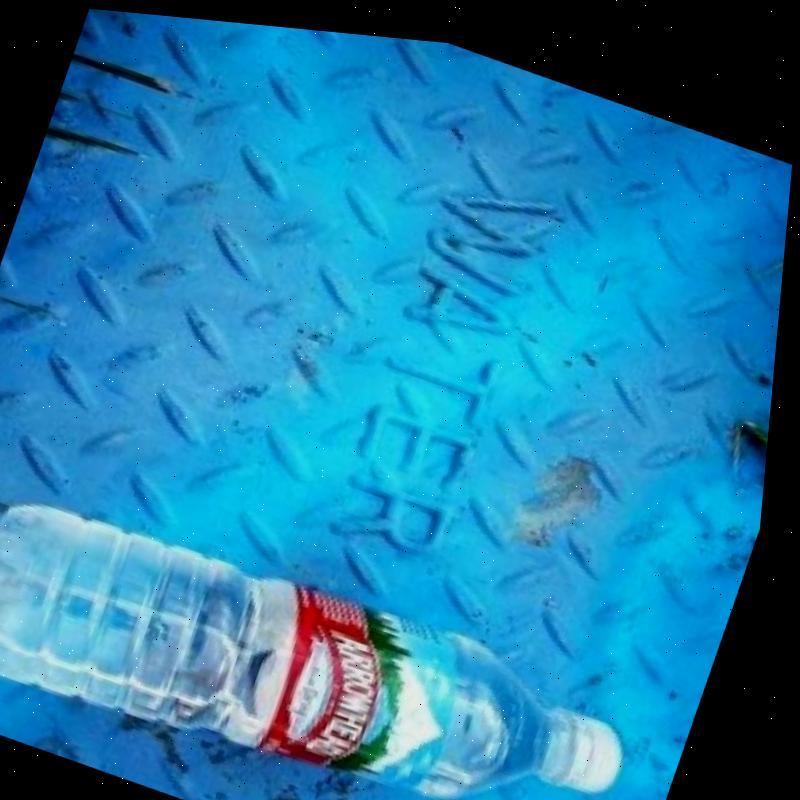botella: (0, 469, 668, 800)
